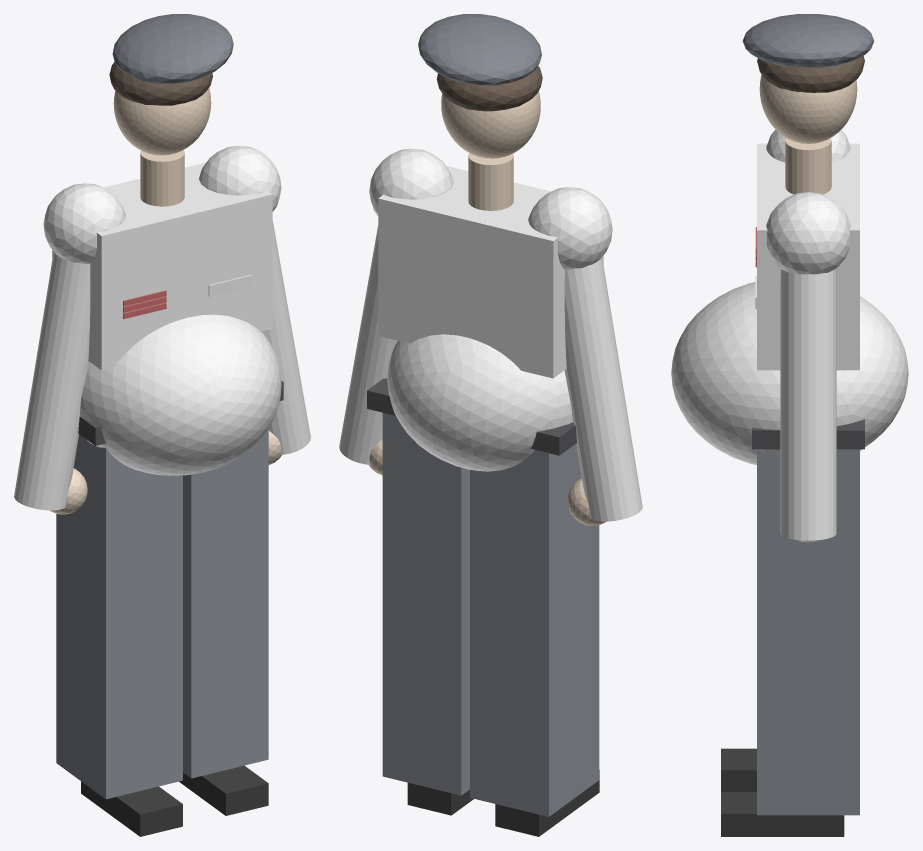
The model's file is female_maternity_apose.glb.
3 views of the same model, side by side, from view 1: azimuth 30°, elevation 25°; view 2: azimuth 150°, elevation 25°; view 3: azimuth 270°, elevation 25° (orthographic). The views are drawn at different scales.
Parts seen in each view (by area): view 1: trouser_left, trouser_right, belly, chest, arm_left, beret, shoulder_left, arm_right, head, shoulder_right, shoe_left, shoe_right (+5 smaller); view 2: trouser_left, trouser_right, chest, belly, arm_left, beret, arm_right, shoulder_left, head, shoulder_right, hair, neck (+4 smaller); view 3: trouser_right, belly, arm_right, chest, shoulder_right, beret, head, shoe_right, hair, neck, shoe_left, belt (+1 smaller).
Part boxes in pixels (x1,y1,x2,y2): trouser_left: [56, 434, 182, 799]; trouser_right: [183, 428, 268, 778]; belly: [80, 314, 281, 475]; chest: [52, 162, 272, 370]; arm_left: [14, 252, 90, 510]; beret: [112, 14, 233, 84]; shoulder_left: [43, 183, 125, 264]; arm_right: [262, 220, 310, 454]; head: [113, 87, 211, 155]; shoulder_right: [199, 145, 281, 211]; shoe_left: [81, 781, 182, 836]; shoe_right: [179, 765, 268, 815]; trouser_left: [470, 444, 599, 816]; trouser_right: [382, 413, 469, 795]; chest: [378, 166, 603, 378]; belly: [387, 334, 572, 471]; arm_left: [564, 257, 642, 521]; beret: [418, 14, 541, 85]; arm_right: [339, 225, 397, 464]; shoulder_left: [528, 187, 612, 269]; head: [441, 91, 540, 158]; shoulder_right: [369, 148, 453, 215]; hair: [436, 66, 542, 111]; neck: [468, 153, 513, 210]; trouser_right: [757, 449, 859, 815]; belly: [671, 282, 908, 465]; arm_right: [780, 269, 836, 540]; chest: [757, 143, 859, 370]; shoulder_right: [766, 192, 850, 274]; beret: [742, 14, 874, 67]; head: [759, 74, 857, 143]; shoe_right: [721, 792, 844, 836]; hair: [757, 55, 864, 92]; neck: [785, 138, 831, 194]; shoe_left: [721, 748, 756, 791]; belt: [752, 419, 864, 449].
Size of what is drawn, in the model's own units: 0.6767 by 1.69 by 0.462.
9 materials, 1 textured.
